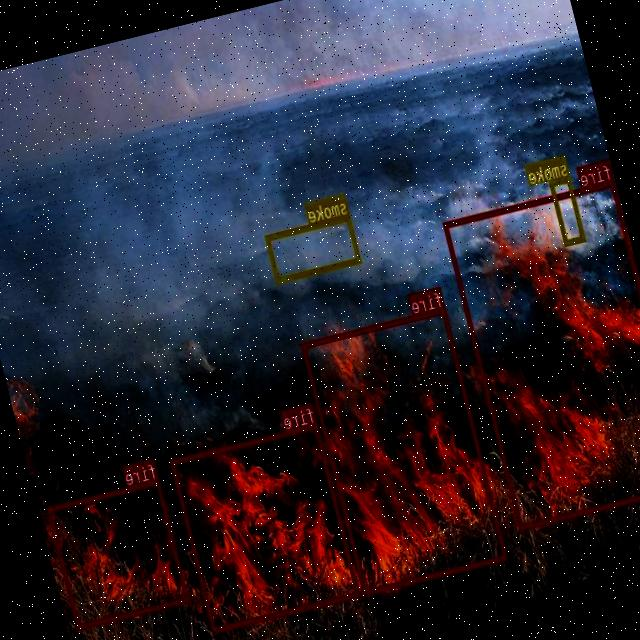fire: (443, 178, 640, 529), (301, 306, 508, 594), (170, 422, 361, 632), (47, 478, 190, 628)
smoke: (266, 213, 362, 282), (550, 173, 586, 244)
